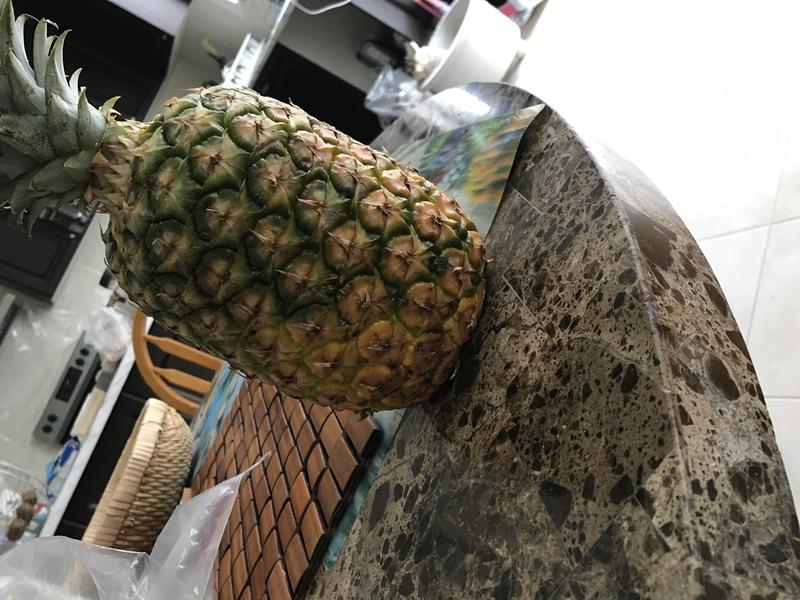pineapple: (1, 11, 497, 424)
